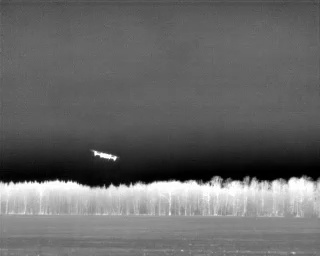DRONE: (86, 145, 123, 166)
